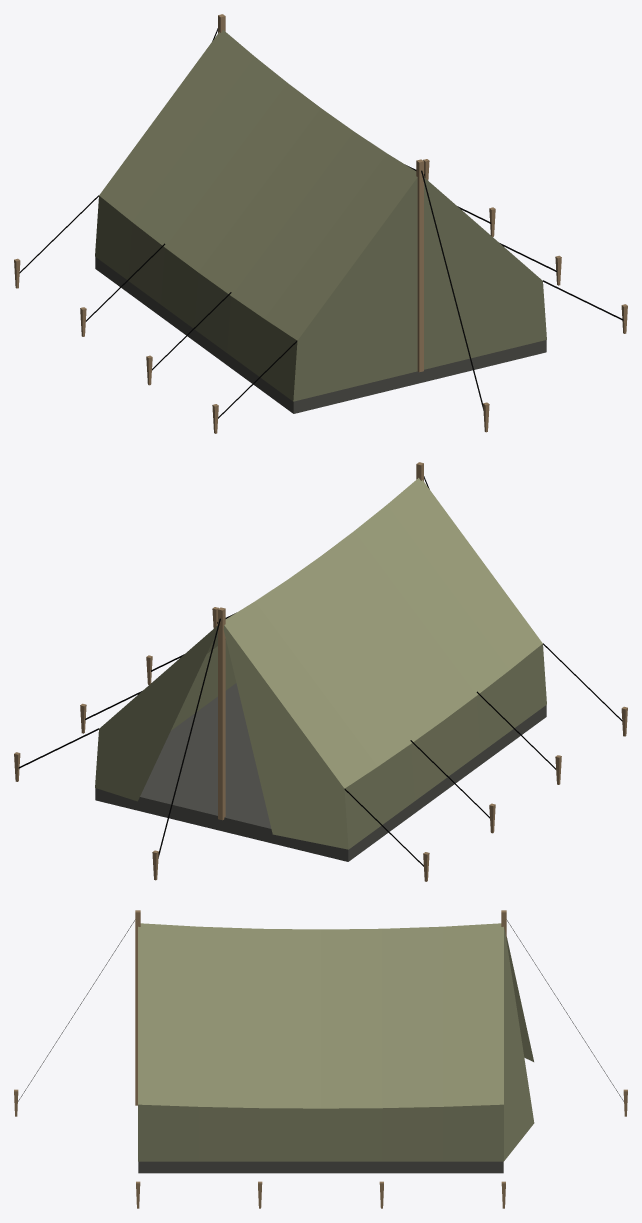
The model's file is tent.glb.
The picture shows the model from 3 angles, top to bottom: view 1: azimuth 30°, elevation 25°; view 2: azimuth 150°, elevation 25°; view 3: azimuth 270°, elevation 25°; orthographic projection. The views are drawn at different scales.
Parts seen in each view (by area): view 1: tent; view 2: tent; view 3: tent.
Part boxes in pixels (box(x1,y1,x2,y2)): tent: box(14, 14, 627, 433); tent: box(14, 462, 627, 881); tent: box(14, 910, 627, 1208).
Bounding box in the file's own units: 5.05 × 2.6 × 7.05.
